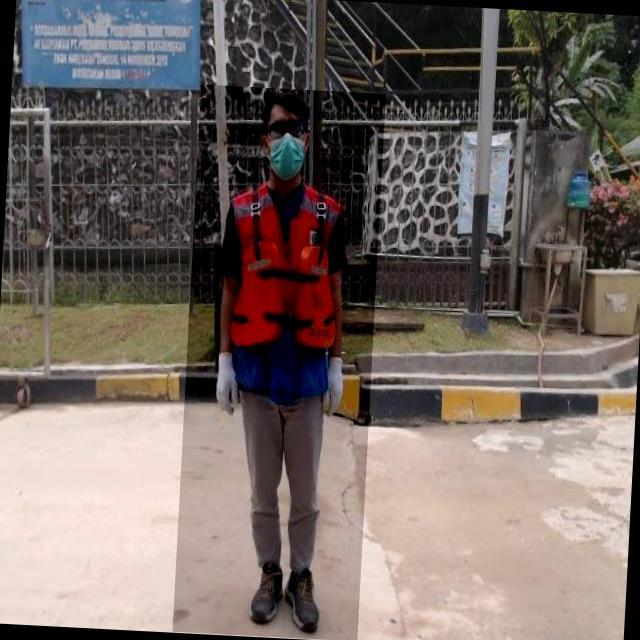Gloves: (200, 350, 250, 429), (318, 349, 358, 427)
Person: (188, 79, 373, 640)
Safety Boot: (284, 569, 325, 636), (250, 560, 288, 628)
Safety Vest: (223, 179, 343, 402)
no-helmet: (261, 90, 316, 131)
